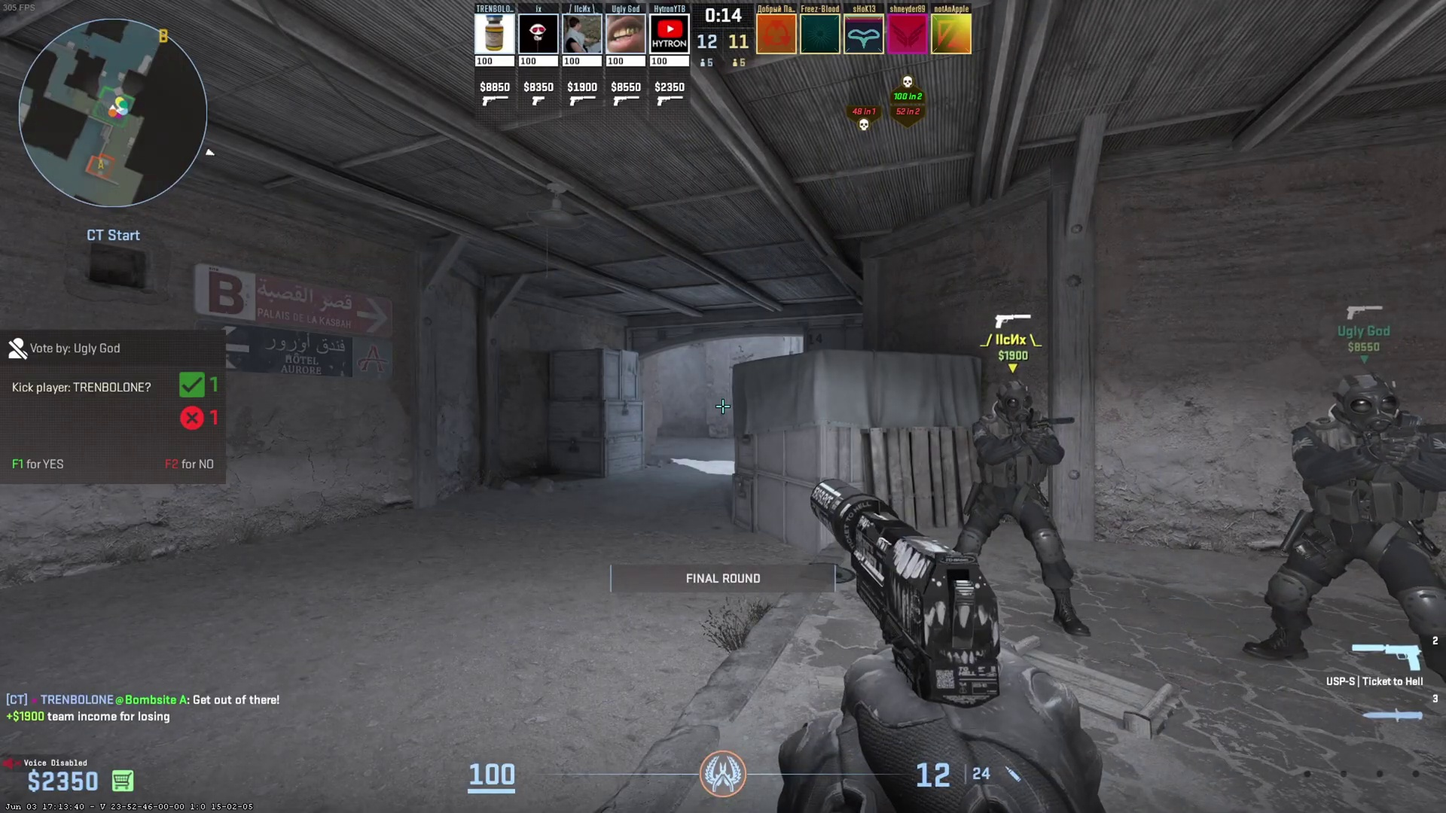CT: (1293, 377, 1443, 676), (956, 378, 1082, 636)
